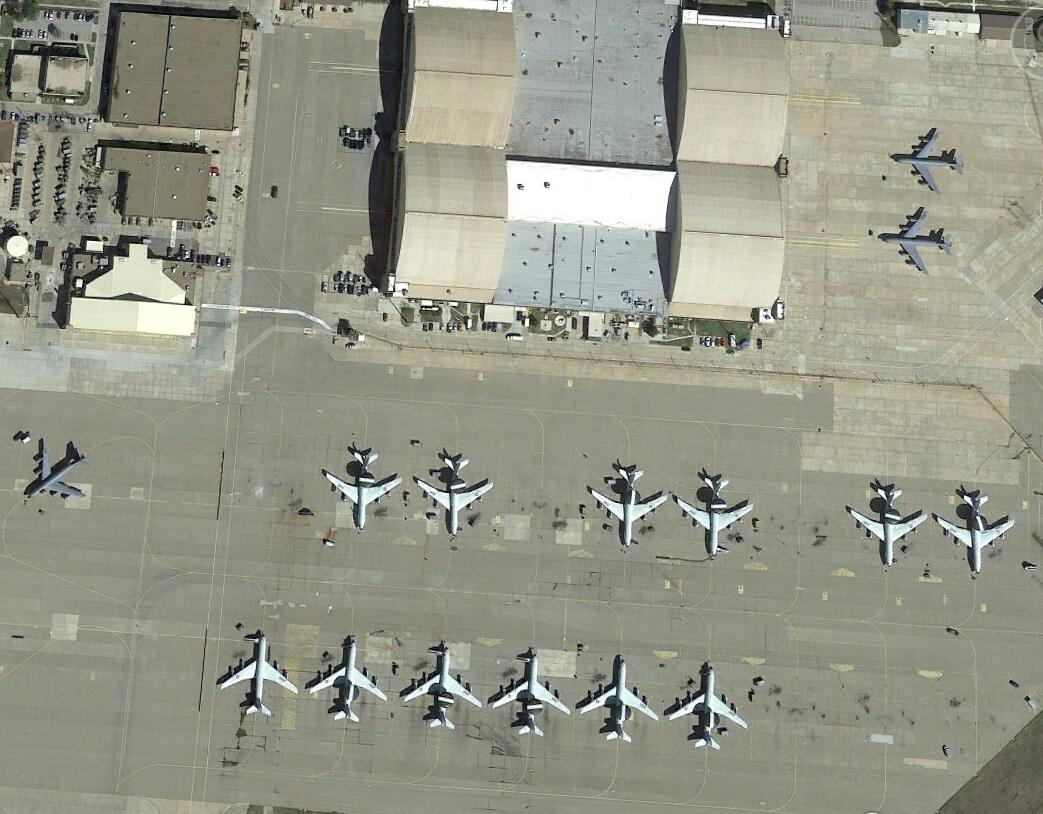A11: (218, 636, 299, 714)
A14: (881, 206, 958, 278), (893, 129, 964, 196), (26, 439, 91, 505)
A7: (578, 658, 660, 745), (401, 646, 483, 731), (491, 654, 573, 738), (848, 484, 929, 568), (308, 641, 388, 725), (589, 467, 669, 549), (323, 449, 403, 531), (936, 492, 1015, 575), (668, 666, 747, 748), (417, 456, 495, 535), (678, 475, 754, 556)
